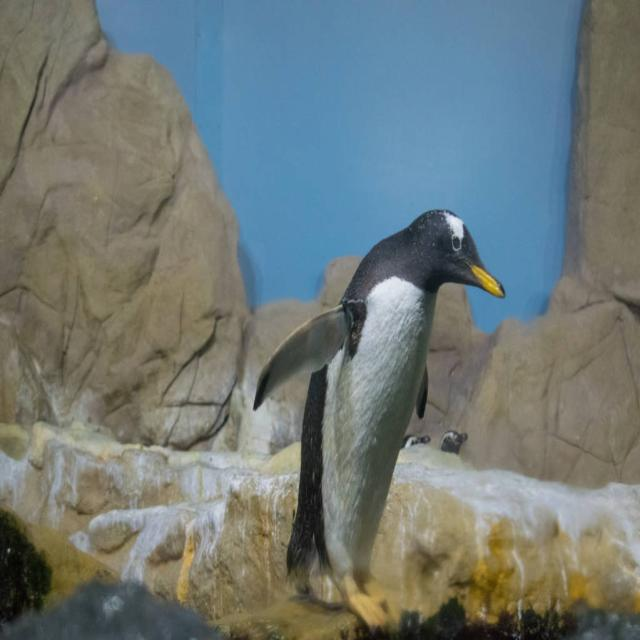Penguins: (270, 185, 507, 627)
